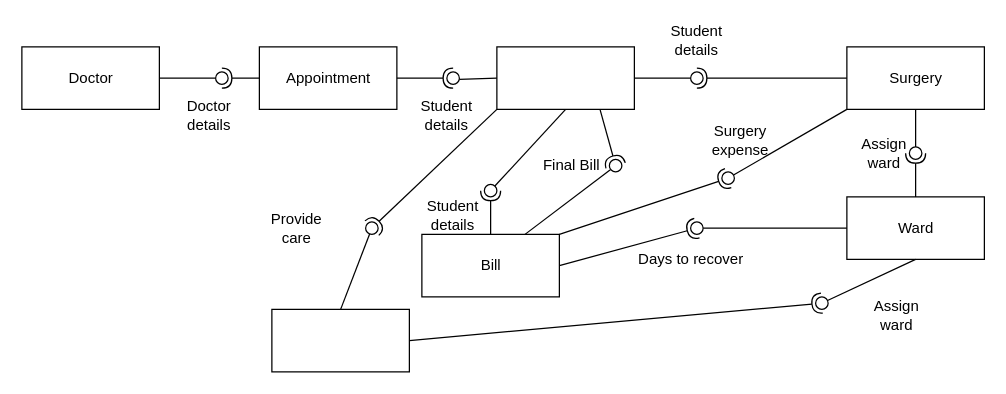
Image size: 1006x394. Some labels were removed from this diagram. The shapes that lost their labels are listed below. From the top down, each one's centre as x and y in pixels, then its label:
point (565, 77): Student
point (340, 340): Nurse
